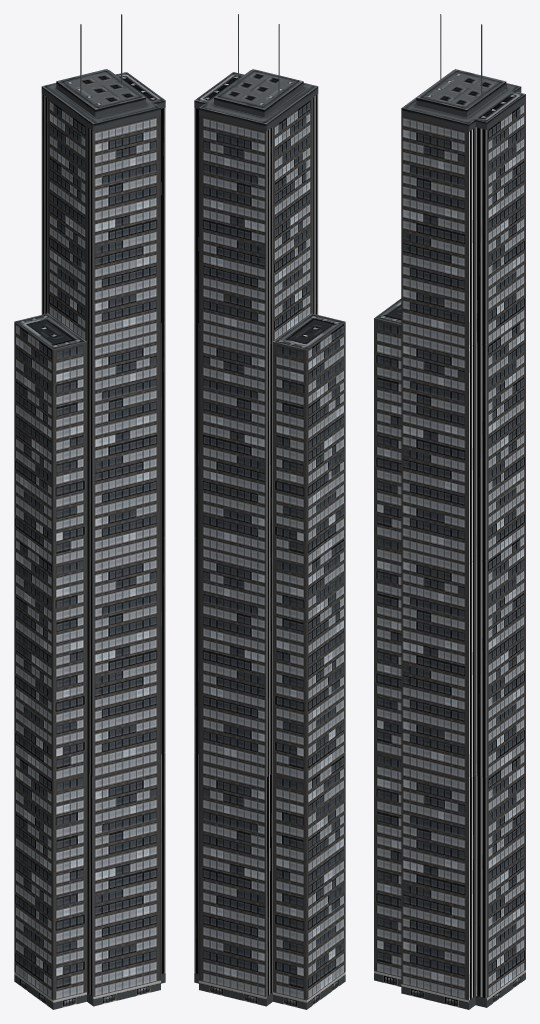
The model's file is skyscrap22.glb.
3 views of the same model, side by side, from view 1: azimuth 30°, elevation 25°; view 2: azimuth 150°, elevation 25°; view 3: azimuth 330°, elevation 25° (orthographic).
Parts seen in each view (by area): view 1: sk10; view 2: sk10; view 3: sk10.
Boxes of the visible parts, x1=… form: sk10: x1=14, y1=14, x2=165, y2=1009; sk10: x1=194, y1=14, x2=345, y2=1009; sk10: x1=374, y1=14, x2=525, y2=1009.
Bounding box in the file's own units: 11.11 × 90.74 × 8.89.
1 material, 1 textured.
